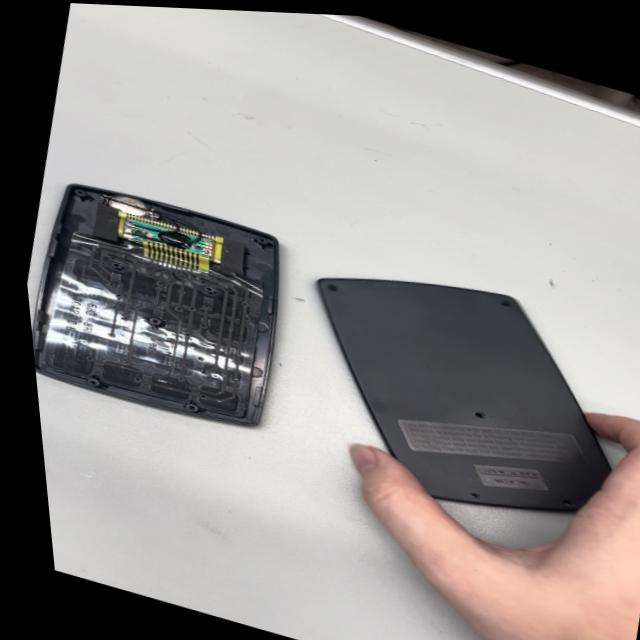back_cover: (261, 235, 640, 552)
front_panel: (15, 160, 317, 443)
